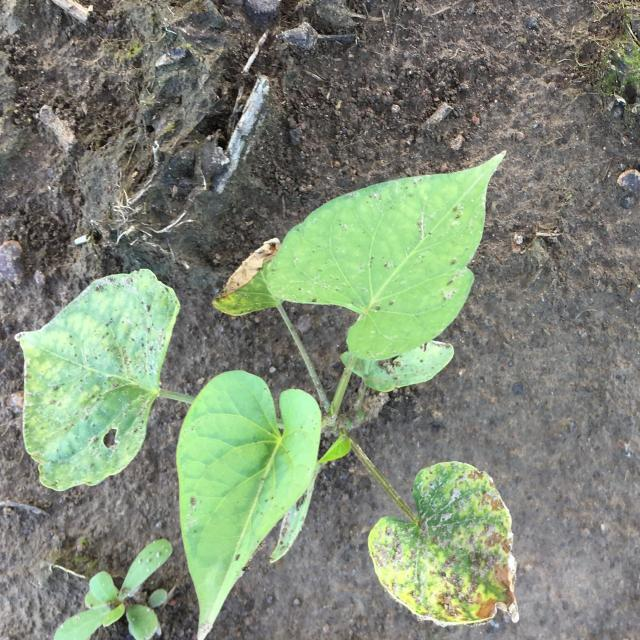MorningGlory: (16, 150, 519, 638)
Purslane: (52, 539, 173, 640)
